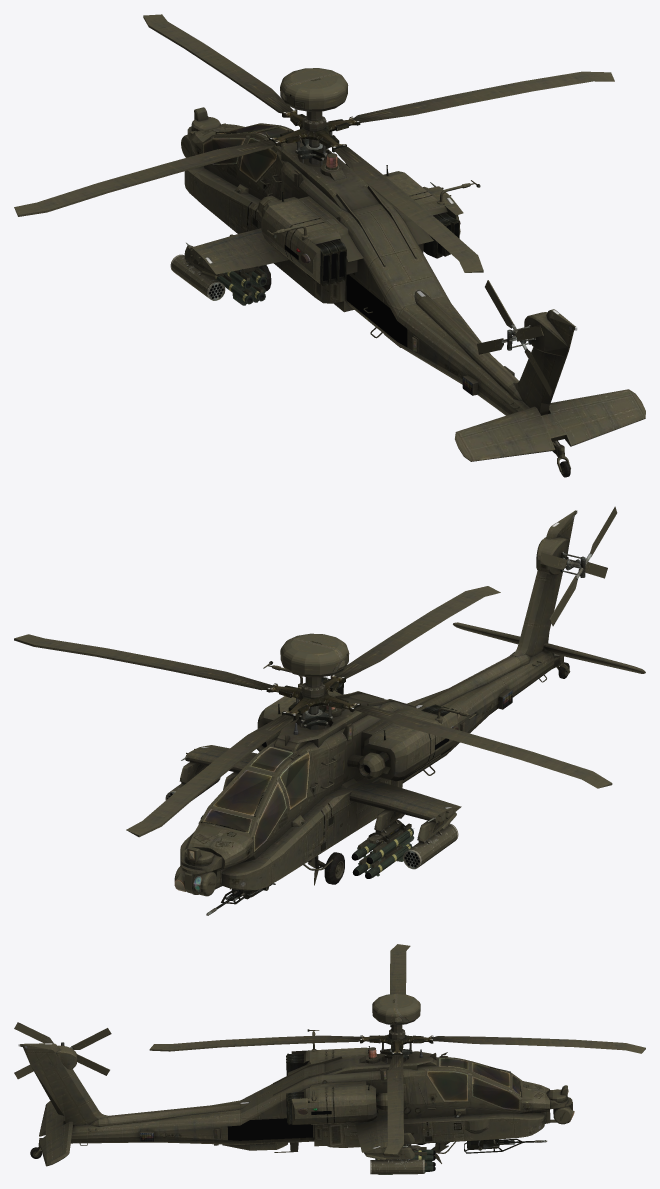
Rendered from apache.glb.
3 views of the same model, one above another, from view 1: azimuth 30°, elevation 25°; view 2: azimuth 150°, elevation 25°; view 3: azimuth 270°, elevation 25° (orthographic). The views are drawn at different scales.
Parts seen in each view (by area): view 1: Body, RotorMesh; view 2: Body, RotorMesh, TailRotorMesh; view 3: Body, RotorMesh, TailRotorMesh.
Boxes of the visible parts, x1,y1,x2,y2 form: Body: (170, 107, 645, 477); RotorMesh: (14, 14, 614, 272); Body: (165, 510, 645, 915); RotorMesh: (14, 552, 612, 837); TailRotorMesh: (562, 506, 617, 579); Body: (14, 1028, 574, 1174); RotorMesh: (108, 944, 645, 1155); TailRotorMesh: (14, 1022, 78, 1049).
Bounding box in the file's own units: 13.71 × 4.78 × 17.5.
7 materials, 7 textured.
